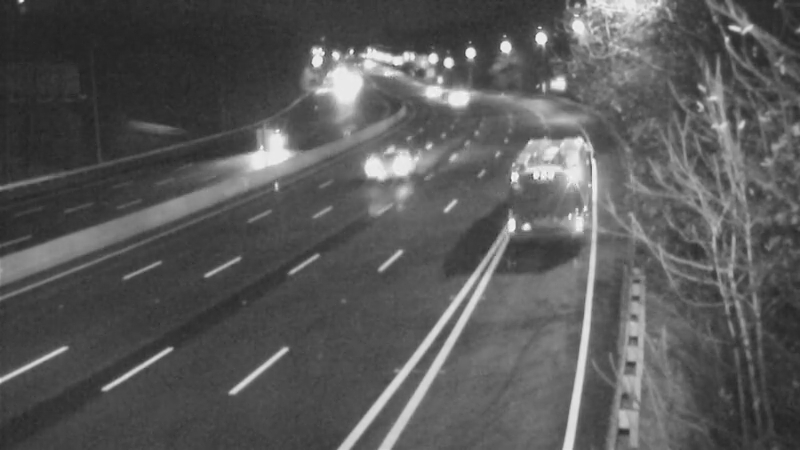vehicle: (509, 131, 589, 211), (349, 124, 429, 204), (406, 66, 456, 116), (430, 74, 480, 124), (249, 124, 299, 174), (316, 63, 366, 113)
